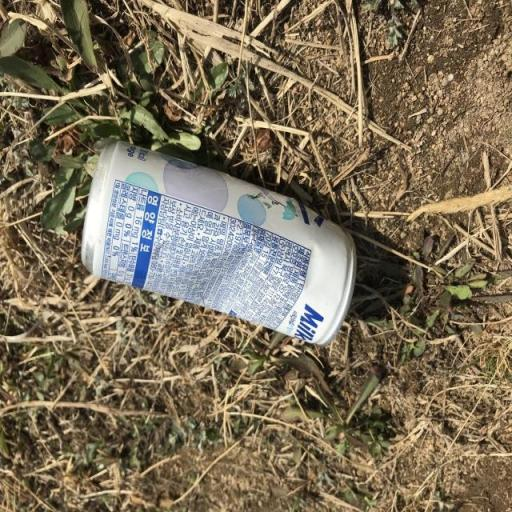metal: (50, 104, 391, 388)
